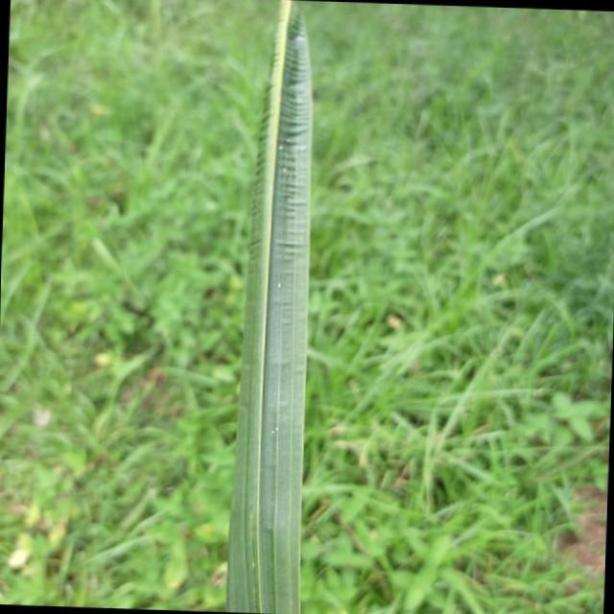Boron: (225, 3, 312, 614)
